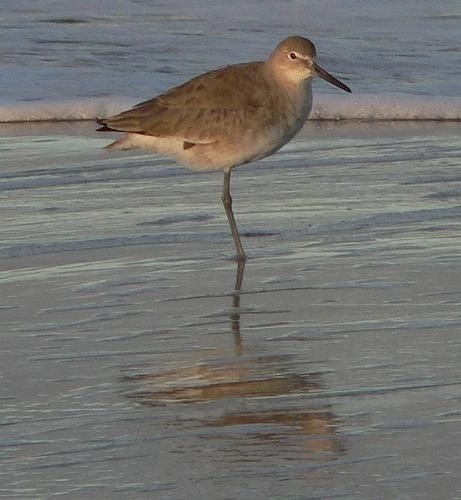bird: (97, 36, 354, 206)
